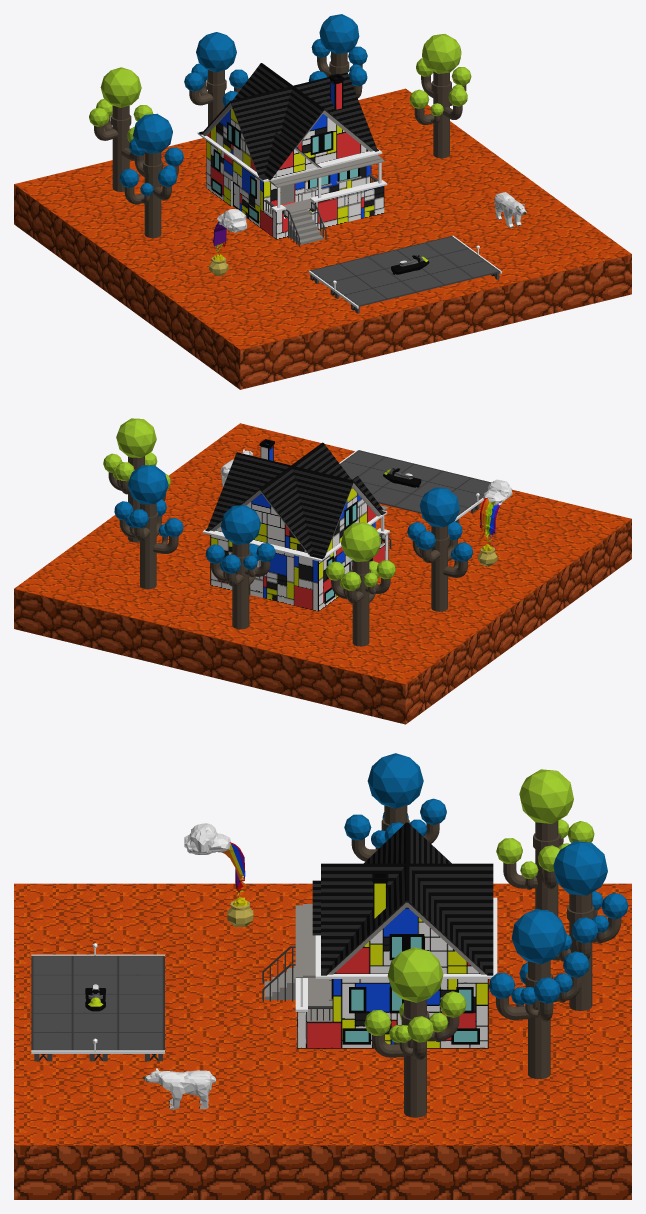
3 views of the same model, one above another, from view 1: azimuth 30°, elevation 25°; view 2: azimuth 150°, elevation 25°; view 3: azimuth 270°, elevation 25° (orthographic). The views are drawn at different scales.
Parts seen in each view (by area): view 1: Cube.001, Cube.840, OBJRANDOM_RAINBOW, ANIMAL_OSO_POLAR; view 2: Cube.001, Cube.840, OBJRANDOM_RAINBOW, VEHICLES_WATERBIKE; view 3: Cube.001, Cube.840, OBJRANDOM_RAINBOW, ANIMAL_OSO_POLAR.
Boxes of the visible parts, x1=… form: Cube.001: x1=14, y1=14, x2=631, y2=389; Cube.840: x1=197, y1=63, x2=387, y2=246; OBJRANDOM_RAINBOW: x1=209, y1=209, x2=247, y2=276; ANIMAL_OSO_POLAR: x1=494, y1=192, x2=526, y2=228; Cube.001: x1=14, y1=418, x2=631, y2=724; Cube.840: x1=202, y1=439, x2=391, y2=611; OBJRANDOM_RAINBOW: x1=478, y1=479, x2=512, y2=566; VEHICLES_WATERBIKE: x1=383, y1=468, x2=421, y2=487; Cube.001: x1=14, y1=753, x2=631, y2=1199; Cube.840: x1=262, y1=822, x2=497, y2=1048; OBJRANDOM_RAINBOW: x1=184, y1=823, x2=253, y2=926; ANIMAL_OSO_POLAR: x1=142, y1=1068, x2=215, y2=1109.
Bounding box in the file's own units: 4000 × 1664 × 4000.
37 materials, 5 textured.
